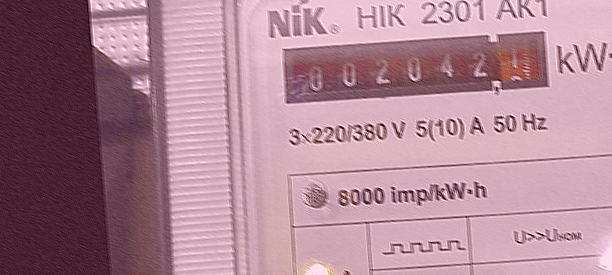0: (402, 52, 423, 84), (304, 61, 324, 93), (338, 58, 357, 90)
1: (504, 40, 520, 72)
2: (468, 48, 488, 79), (371, 56, 391, 86)
4: (435, 48, 456, 81)
screen: (275, 23, 554, 117)
